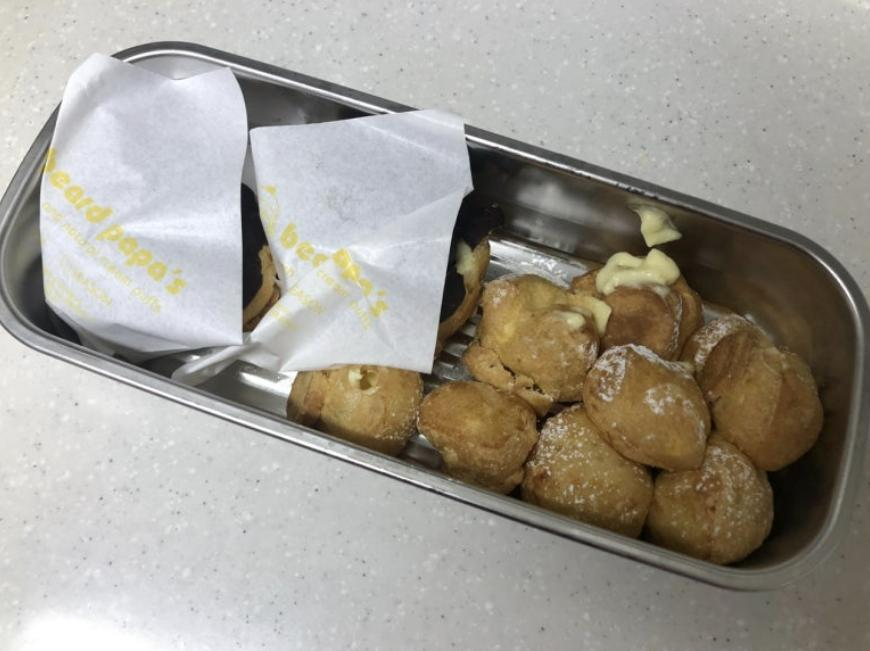Lunch Box: (0, 44, 869, 588)
